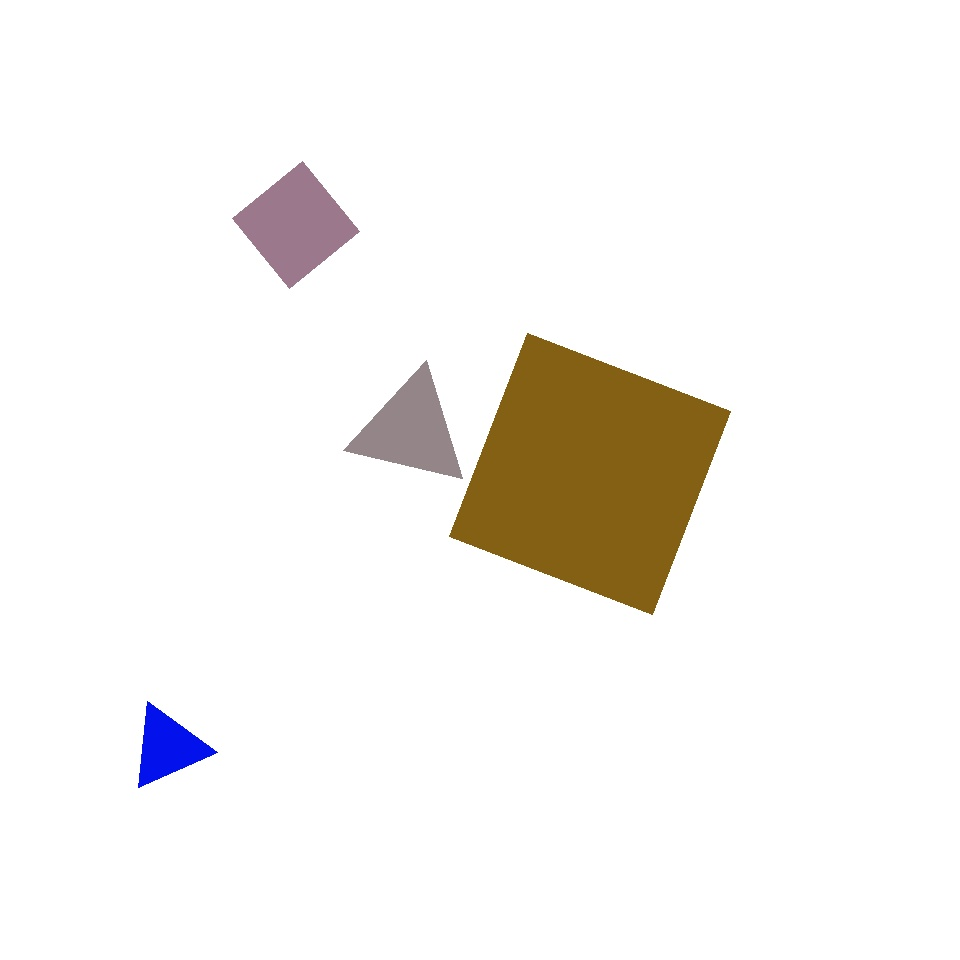circle: (351, 371, 470, 489), (128, 704, 207, 790)
square: (450, 334, 730, 614), (510, 27, 736, 253), (138, 558, 359, 780), (232, 162, 360, 288)
triangle: (437, 386, 812, 760), (642, 2, 951, 312), (330, 254, 522, 448), (195, 839, 302, 946)
